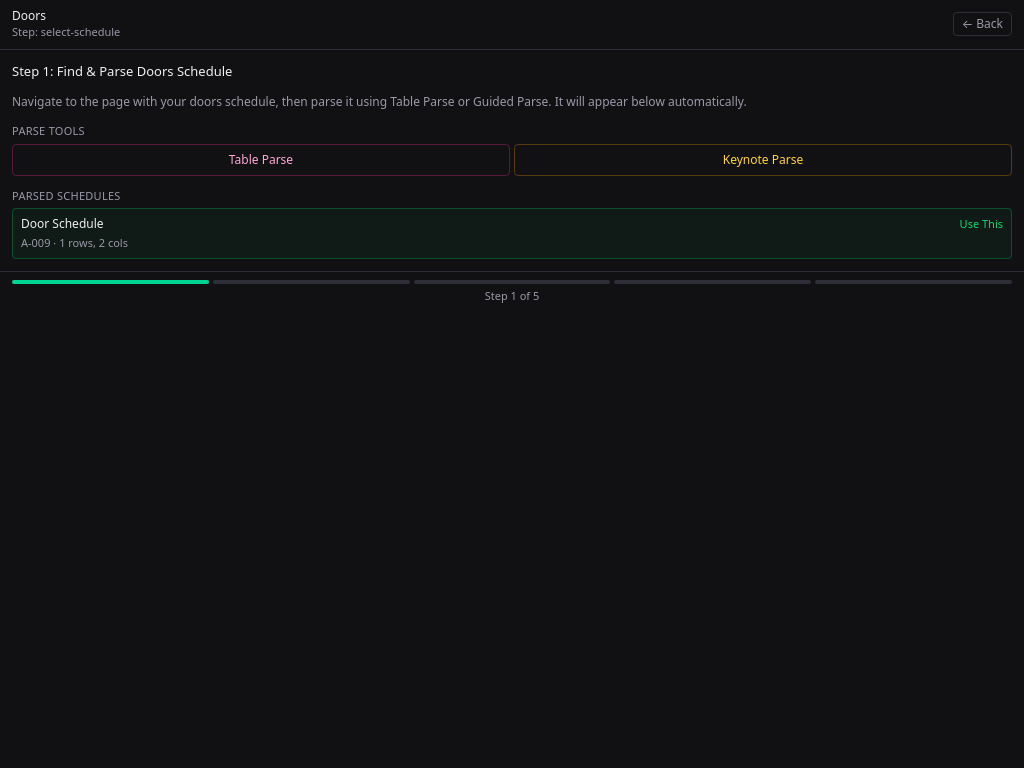
Auto-QTO summary-only schedule identity (K11) › [fix round] two schedules with the SAME name are told apart by the summary's region id
Step 1. Click the button "Door Schedule Use This A-009 · 1 rows, 2 cols" → (62, 224), box [12,208,1012,258]
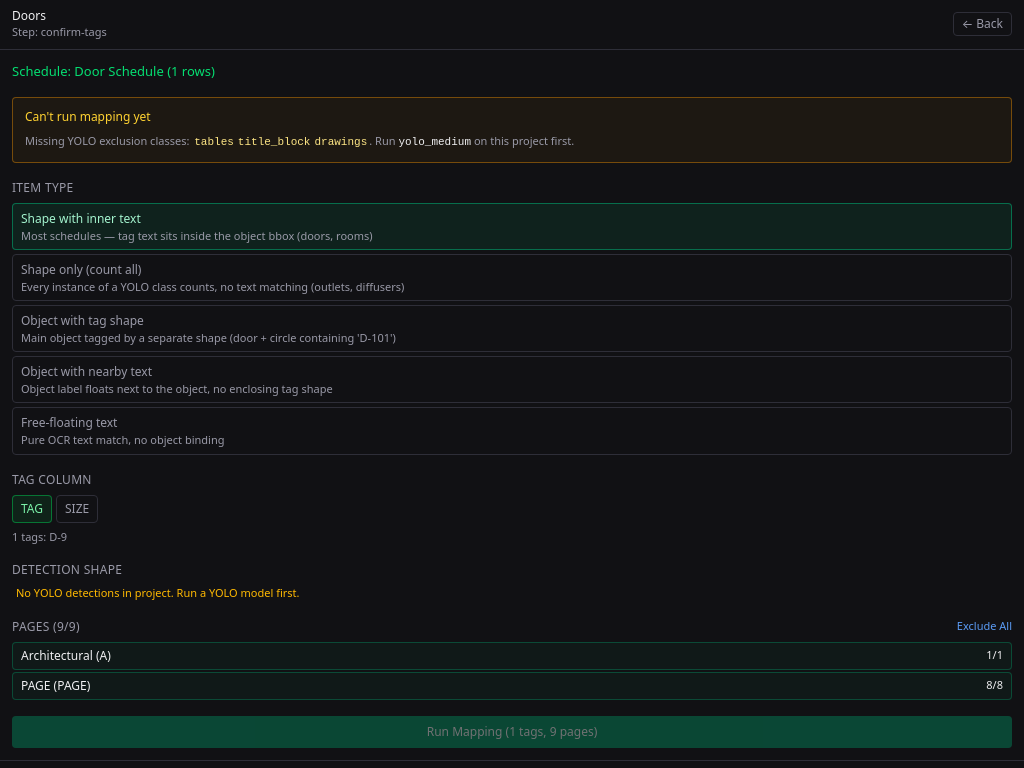
Check: the text "Step: confirm-tags" is shown, box [12,24,107,40]
